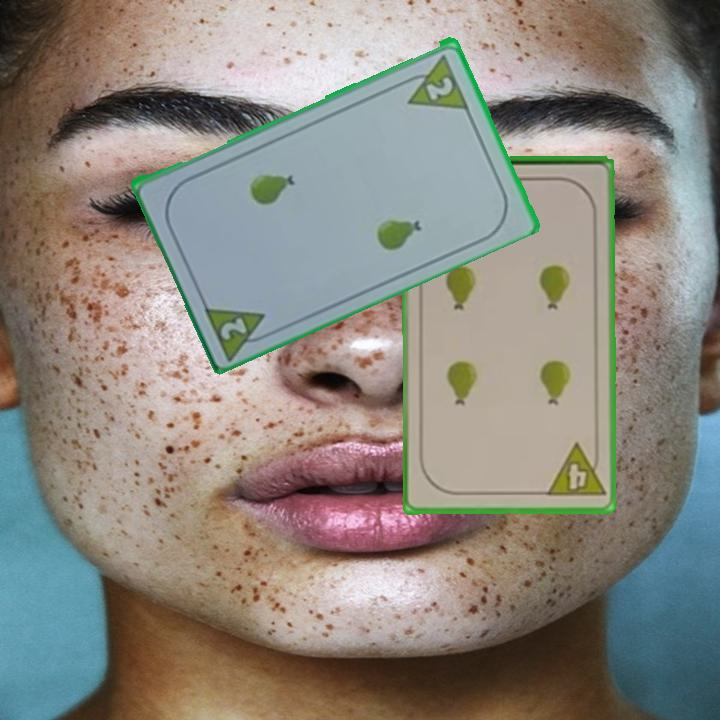2p: (422, 72, 457, 103), (216, 313, 250, 343)
4p: (543, 440, 608, 500)
